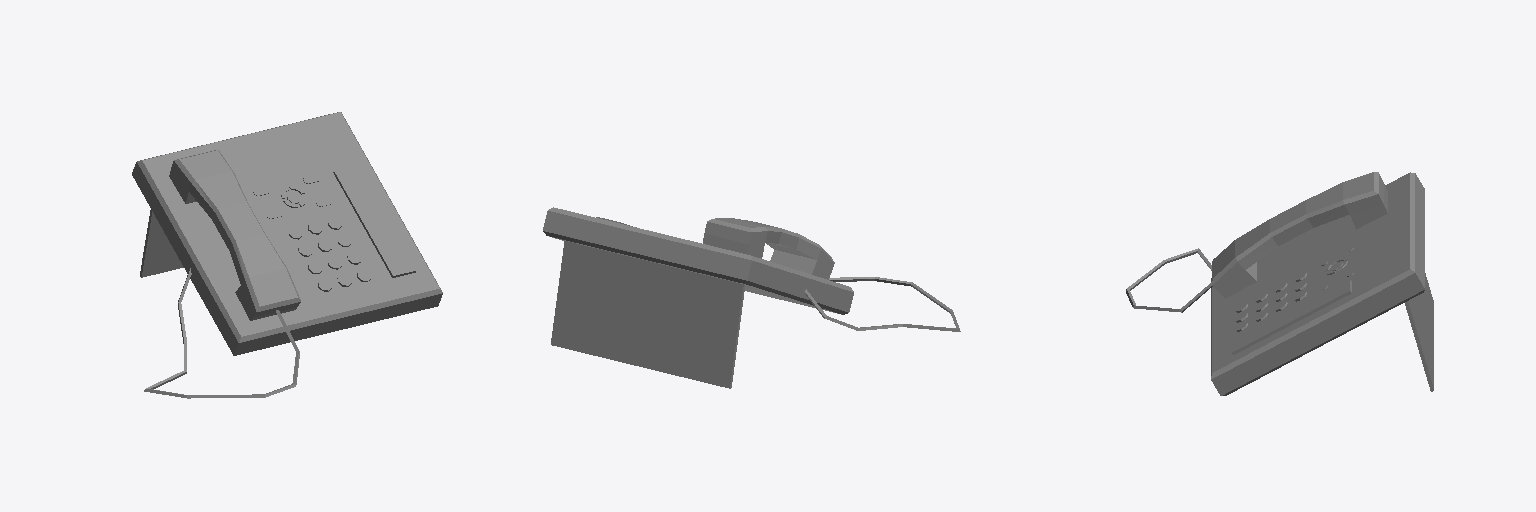
File: Telephone.obj
3 views of the same model, side by side, from view 1: azimuth 30°, elevation 25°; view 2: azimuth 150°, elevation 25°; view 3: azimuth 270°, elevation 25° (orthographic).
Parts seen in each view (by area): view 1: Telephone; view 2: Telephone; view 3: Telephone.
Boxes of the visible parts, box(x1,y1,x2,y2) form: Telephone: box(132, 112, 442, 398); Telephone: box(543, 207, 960, 388); Telephone: box(1126, 172, 1433, 395).
Size of the model in its own units: 26.47 by 11.51 by 23.18.